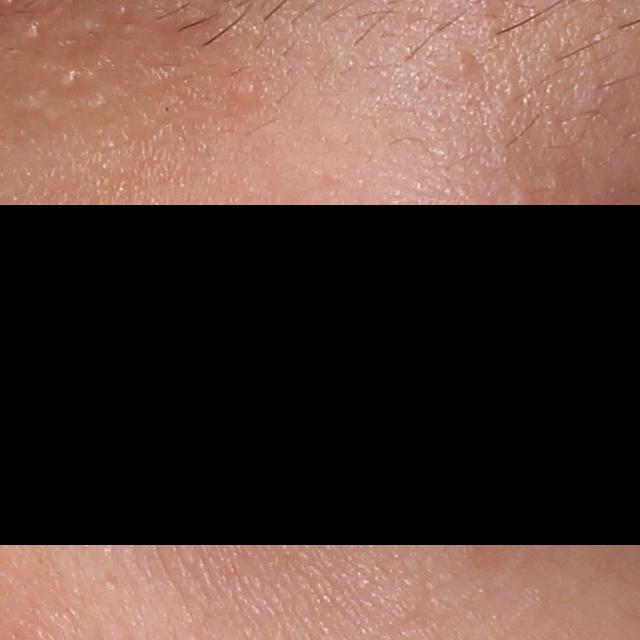comedo: (445, 52, 479, 80), (60, 70, 83, 91), (22, 24, 44, 44)
